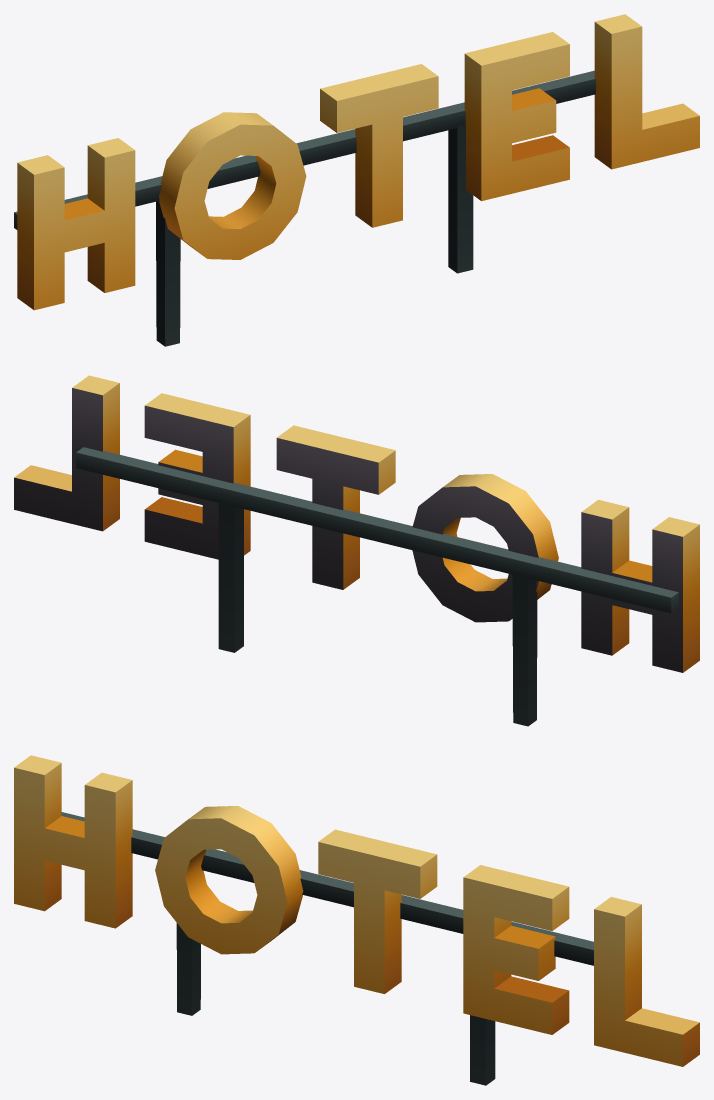
Rendered from Title_1B.fbx.
The picture shows the model from 3 angles, top to bottom: view 1: azimuth 30°, elevation 25°; view 2: azimuth 150°, elevation 25°; view 3: azimuth 330°, elevation 25°; orthographic projection.
Parts seen in each view (by area): view 1: Title_1B, Title_Addon_1B; view 2: Title_1B, Title_Addon_1B; view 3: Title_1B, Title_Addon_1B.
Boxes of the visible parts, bbox=[...] form: Title_1B: bbox=[17, 14, 699, 310]; Title_Addon_1B: bbox=[14, 70, 595, 346]; Title_1B: bbox=[14, 375, 699, 672]; Title_Addon_1B: bbox=[76, 447, 678, 726]; Title_1B: bbox=[14, 755, 699, 1066]; Title_Addon_1B: bbox=[61, 812, 593, 1085].
Bounding box in the file's own units: 456 × 143 × 29.08.
